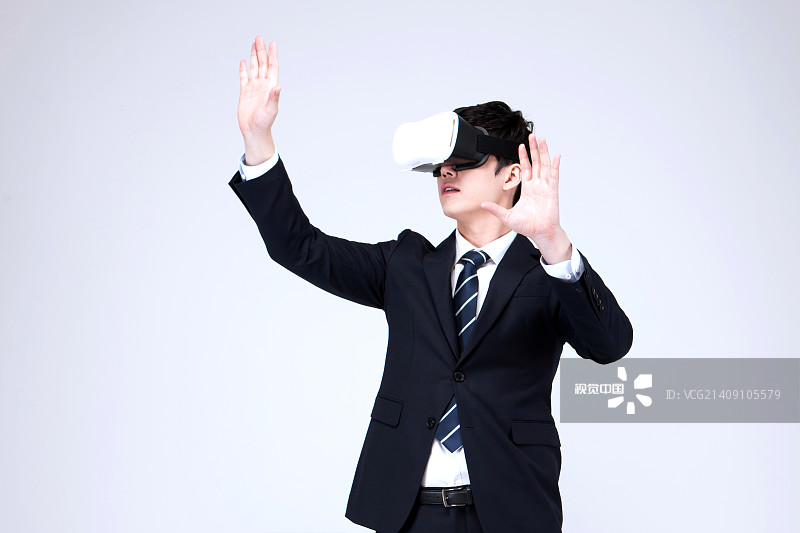no-phone: (470, 130, 595, 252), (212, 12, 295, 148)
